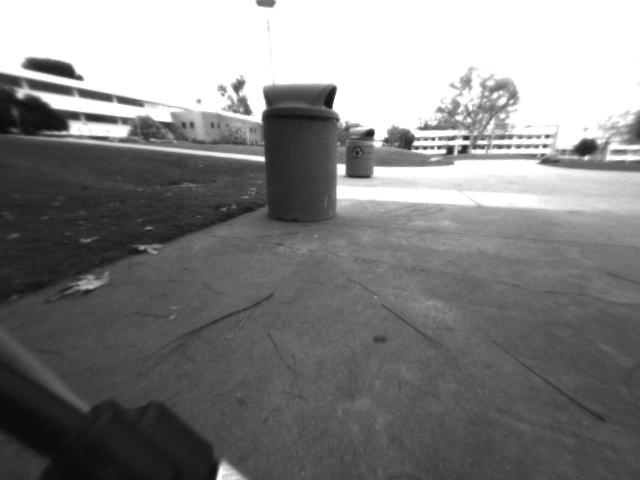trashcan: (259, 79, 349, 226)
